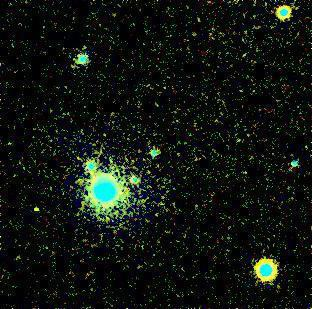star: (65, 167, 95, 197)
